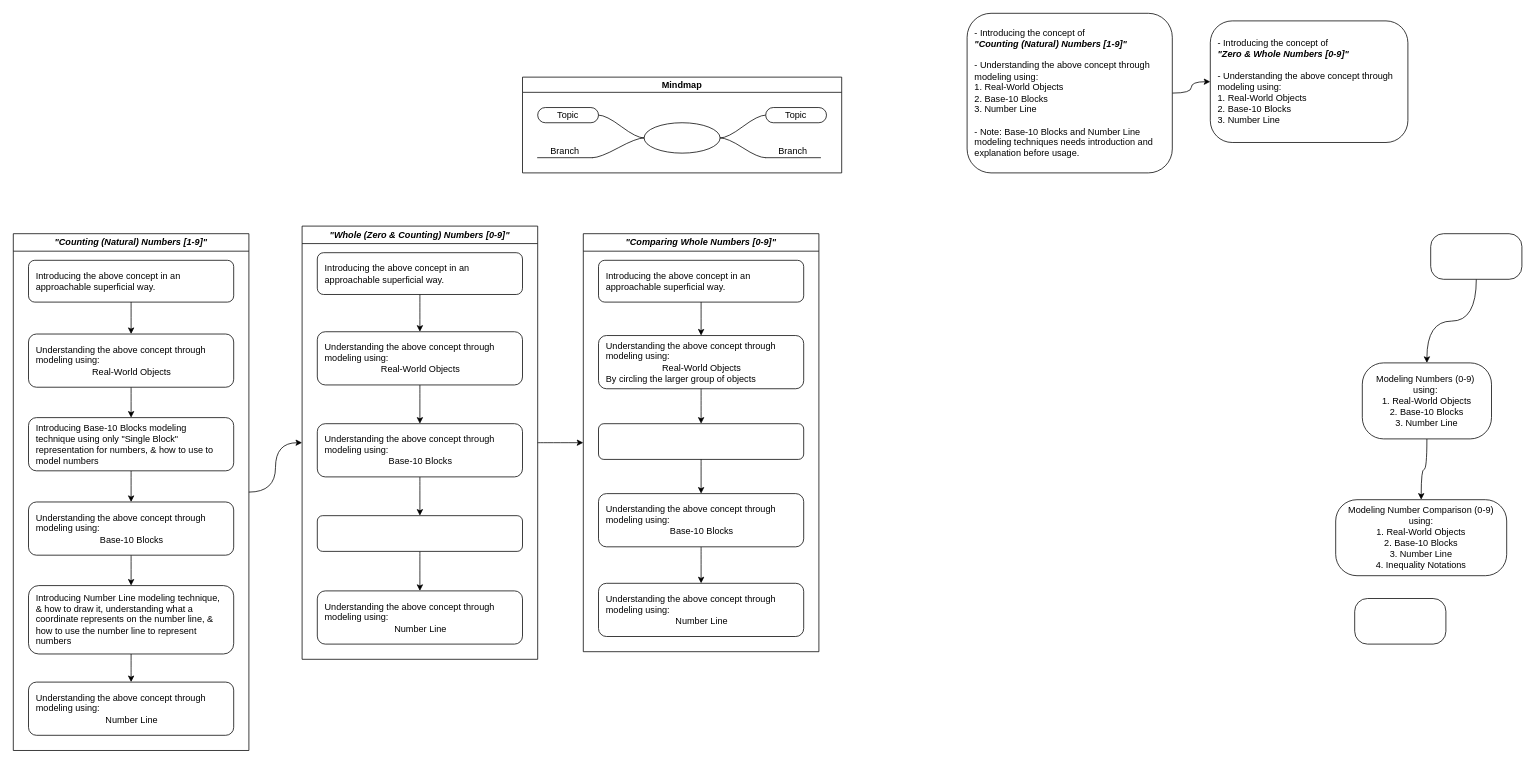
Image size: 1535x764. Some labels were removed from this diagram. Here are the shapes that lost their labels. From the top down, the centre of each, then its label:
At [681,137]: "Central Idea".
At [1476,256]: "Whole Numbers (0-9)".
At [701,441]: "Introducing equality and inequality notations".
At [419,533]: "Introducing Origin to the Number Line".
At [1400,621]: "Comparing Numbers (0-9)".
